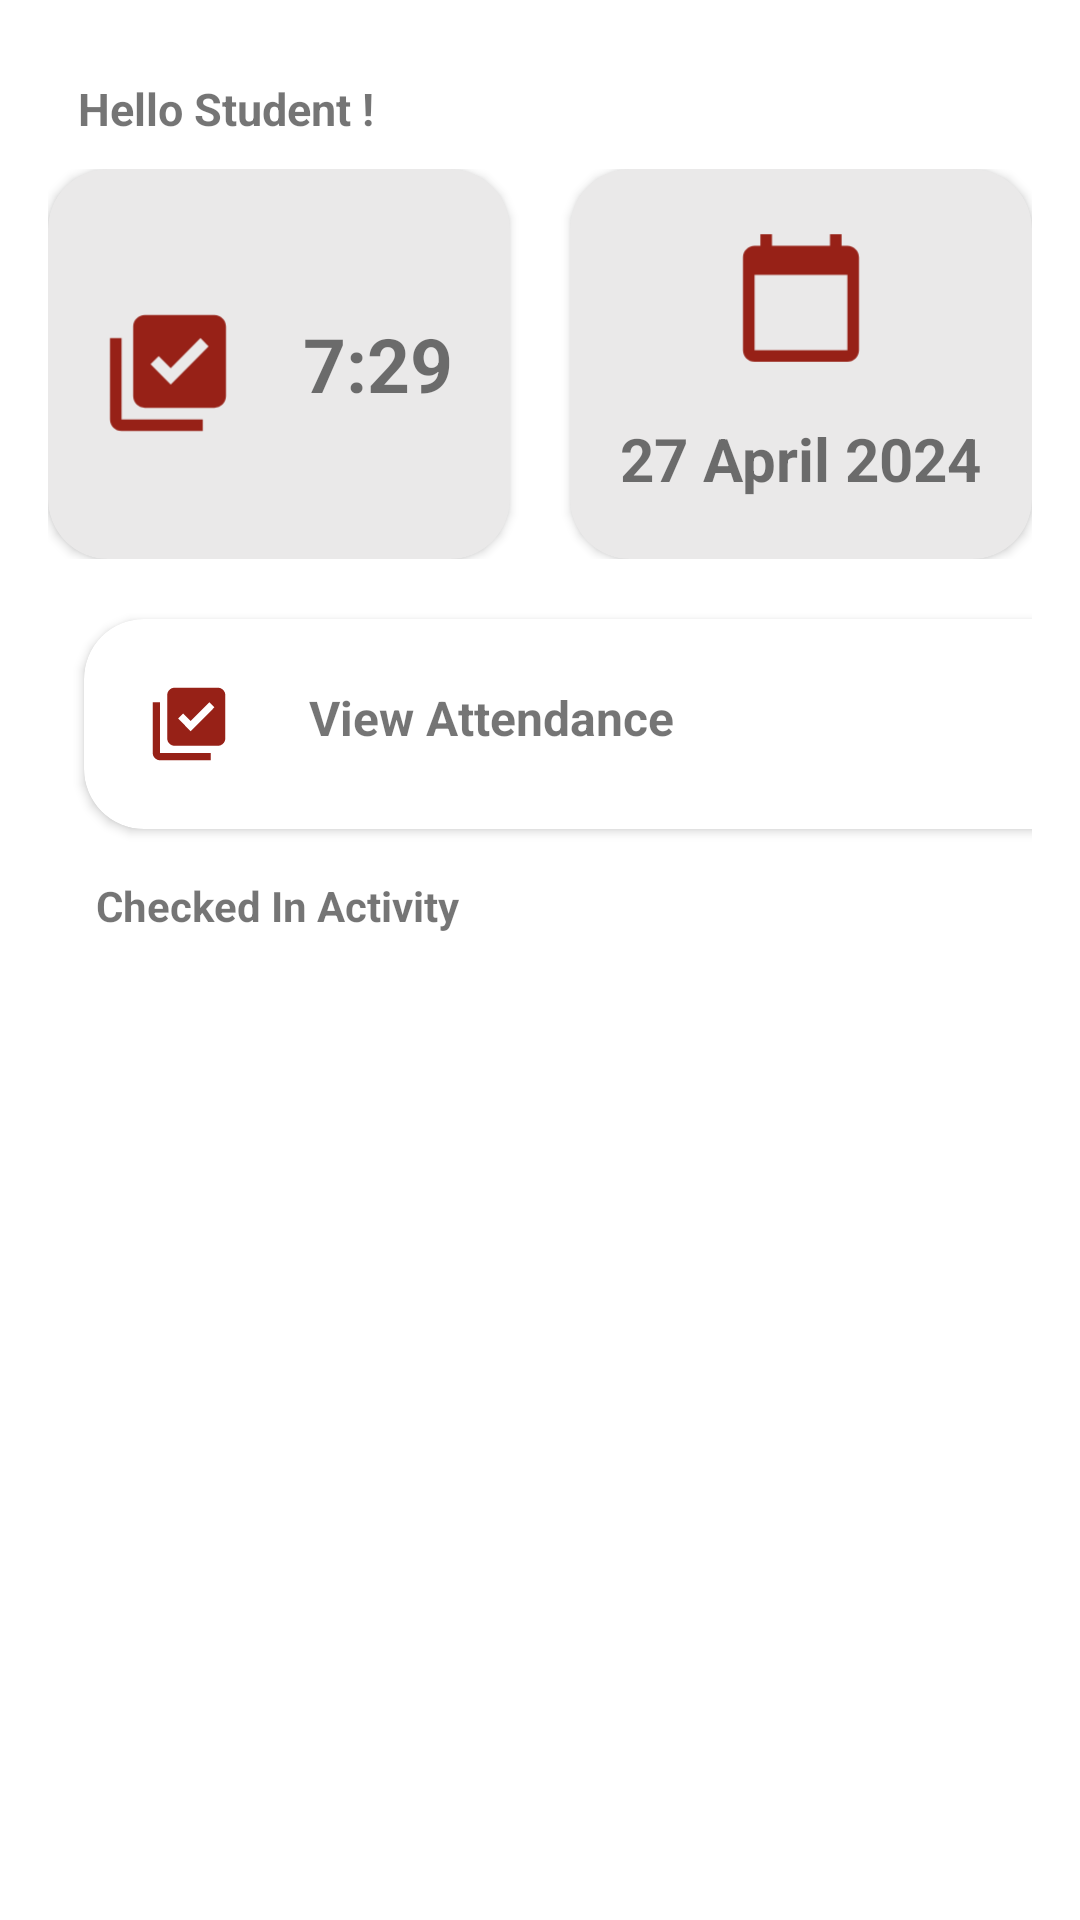

Icons on this 1080px×1920px Android screen, each with the point to tap as point (x, y):
calendar: point (801, 298)
